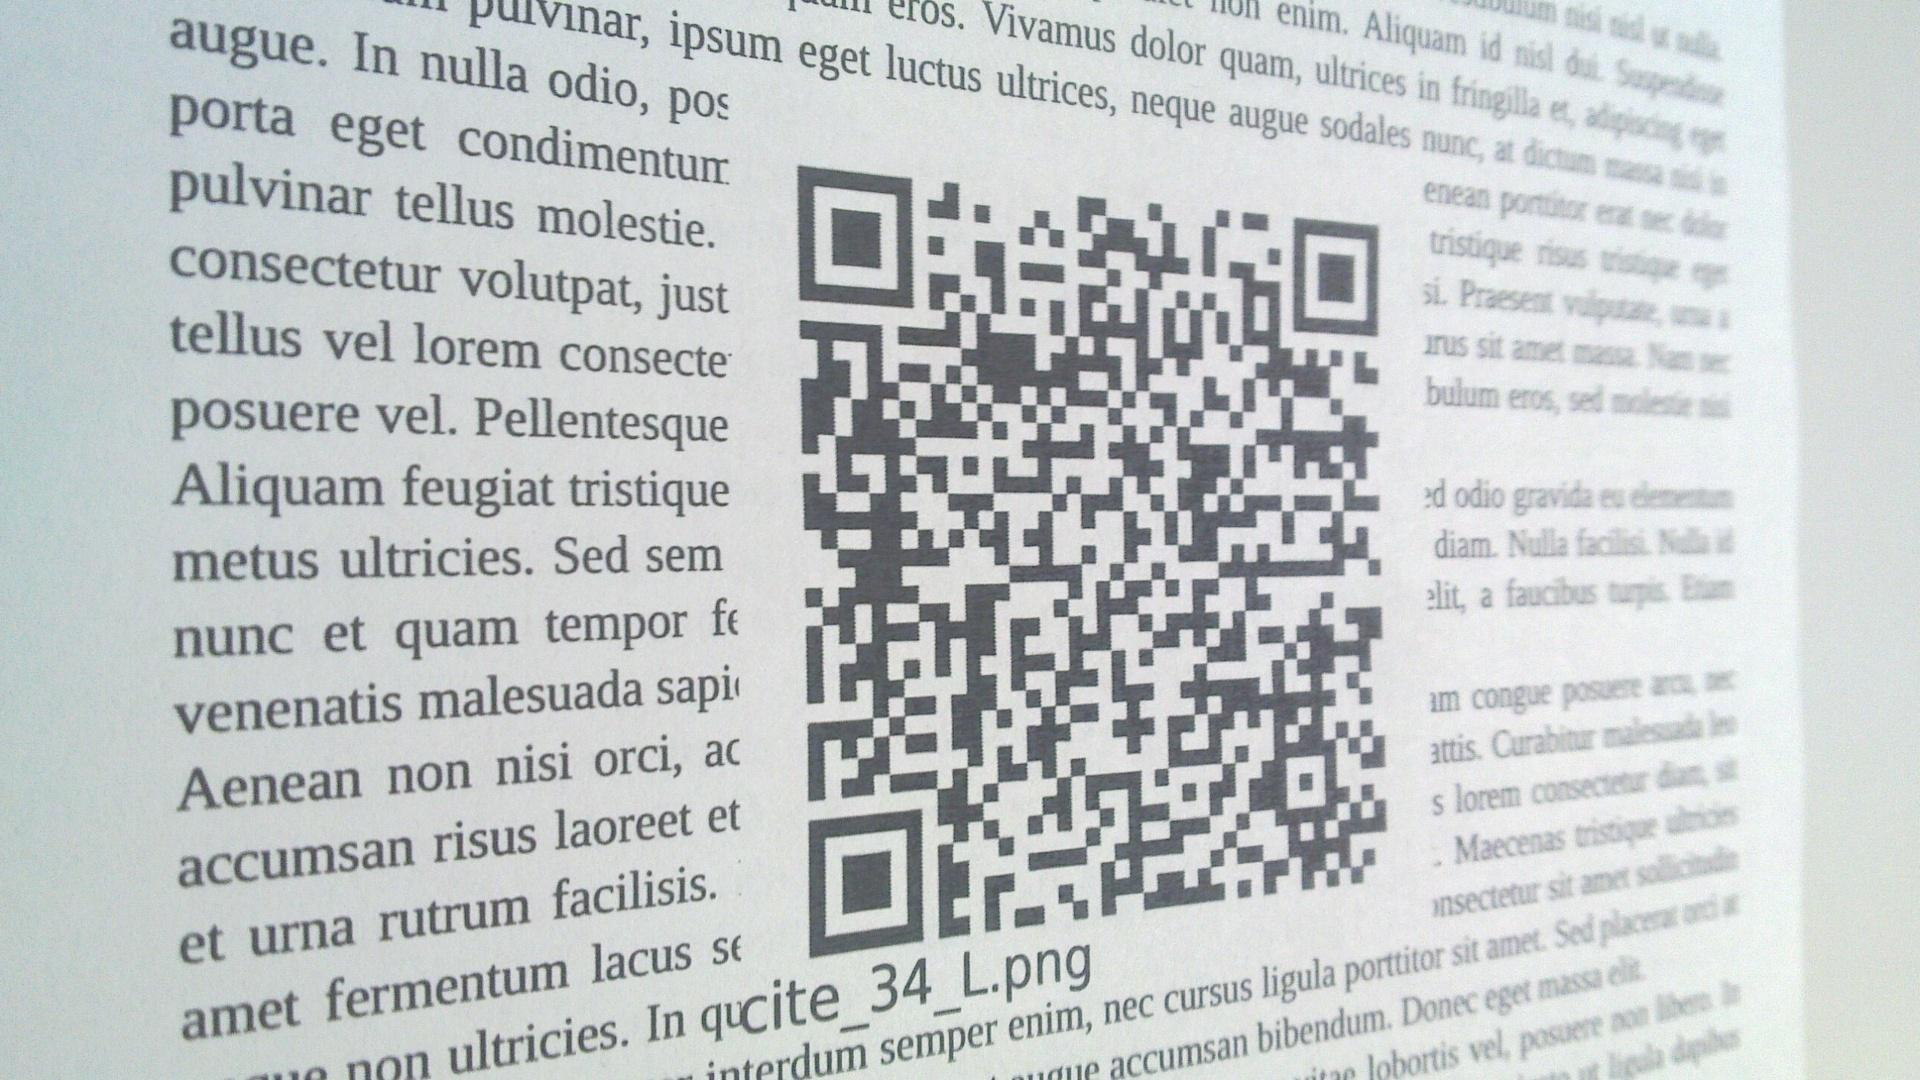Finder pattern: (789, 157, 922, 313), (800, 808, 931, 953), (1288, 211, 1385, 342)
